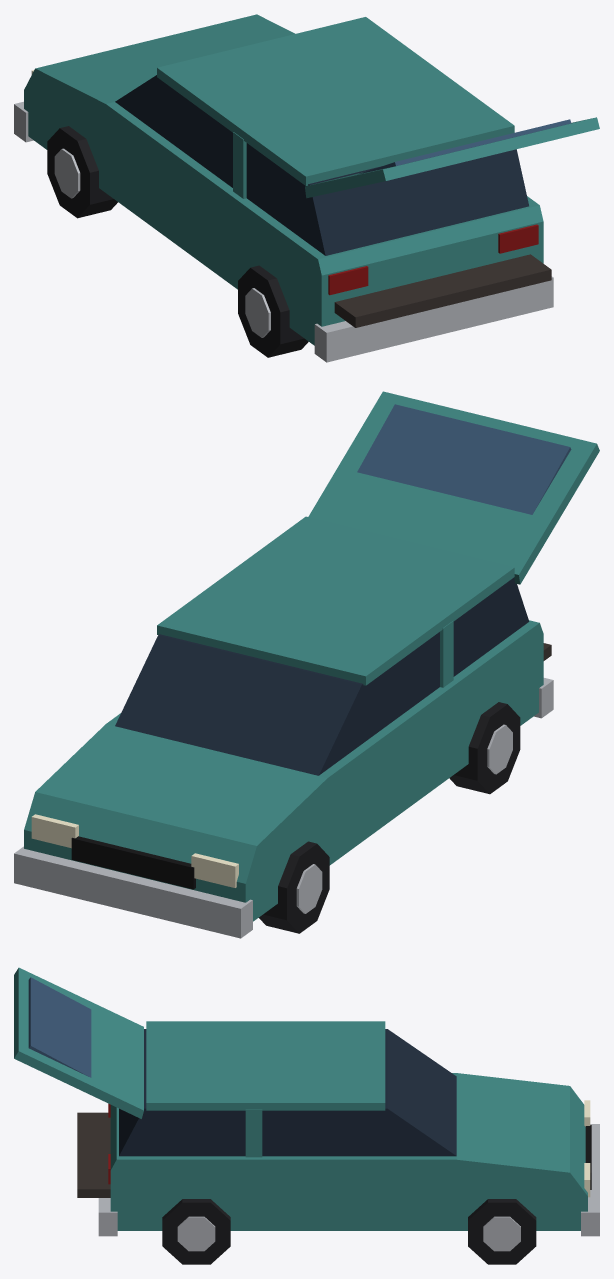
Rendered from CarHatchTealOpen.obj.
3 renders of one model, top to bottom at view 1: azimuth 30°, elevation 25°; view 2: azimuth 150°, elevation 25°; view 3: azimuth 270°, elevation 25°, orthographic. The views are drawn at different scales.
Visible parts, largest first — view 1: CarHatchTealOpen; view 2: CarHatchTealOpen; view 3: CarHatchTealOpen.
Boxes of the visible parts, <box> form: CarHatchTealOpen: <box>14,14,599,362</box>; CarHatchTealOpen: <box>14,391,599,938</box>; CarHatchTealOpen: <box>14,967,599,1264</box>.
Bounding box in the file's own units: 1.89 × 1.93 × 4.91.
Materials: 1 (1 with a texture image).
